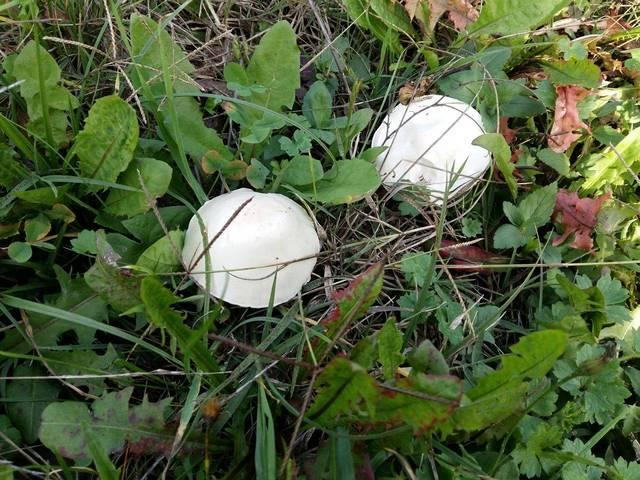Non-edible Mushroom: (180, 186, 320, 309), (370, 92, 492, 207)
